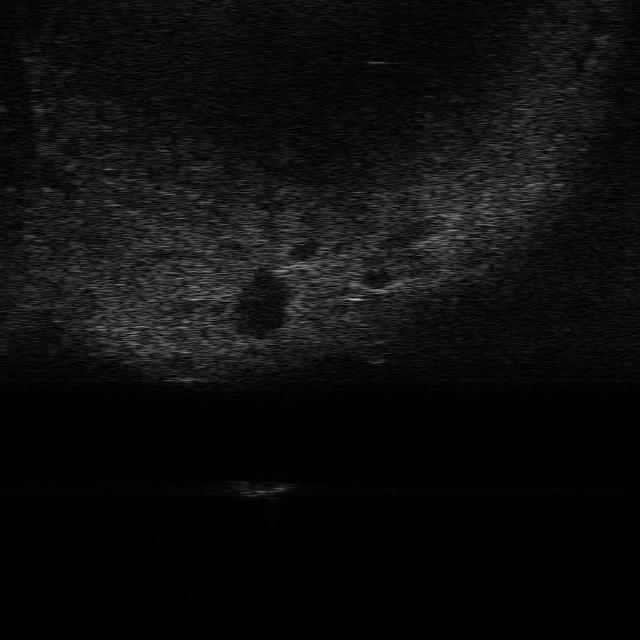ball: (355, 339, 395, 365)
cube: (226, 479, 295, 498)
